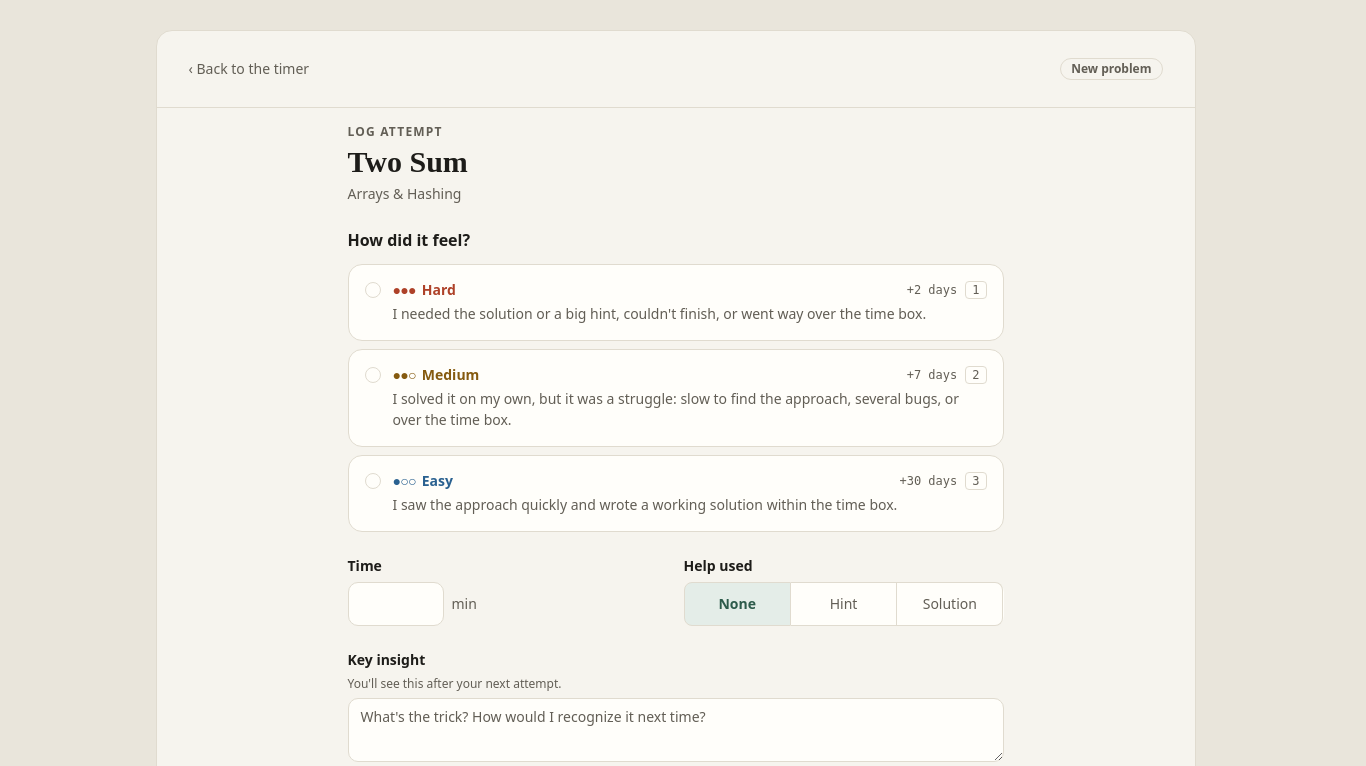
LogPage saving › shows the next re-solve date from the new schedule
The width and height of the screenshot is (1366, 766).
Click the radio button named "Hard" next to "Hard".
click(372, 290)  # box [364, 282, 380, 298]
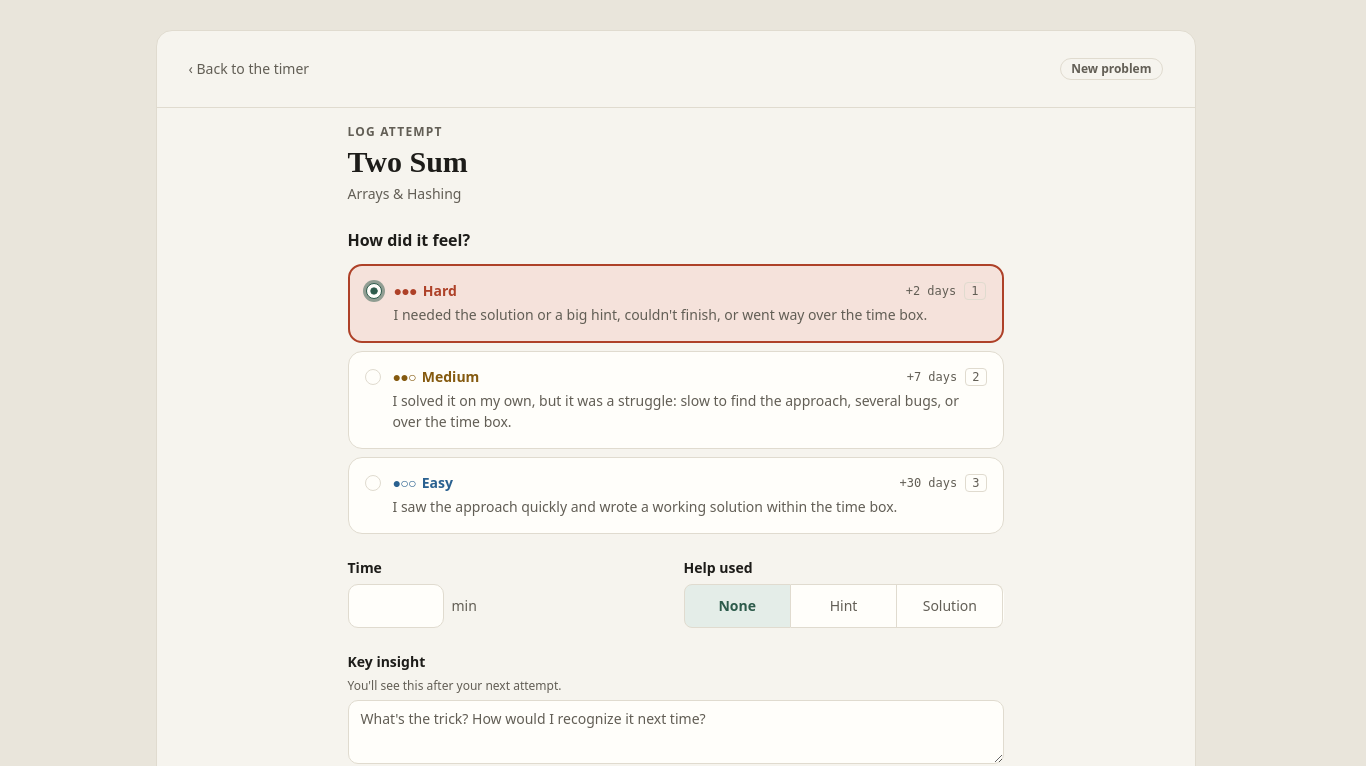
Type "30" into the number field labelled "Time".
click(396, 606); type("30")  # box [348, 584, 444, 628]
(page scrolled)
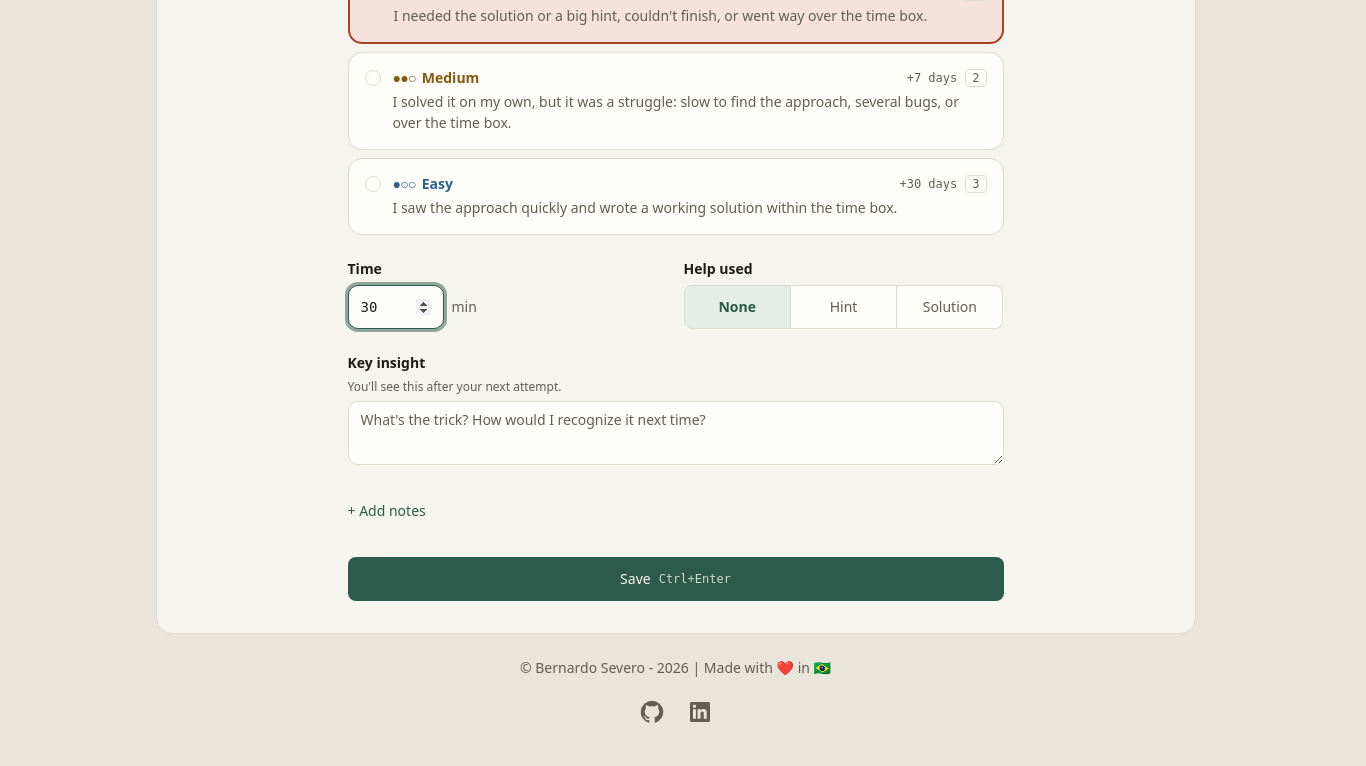
Click the button "Save Ctrl+Enter".
click(676, 579)  # box [348, 557, 1004, 601]
(page scrolled)
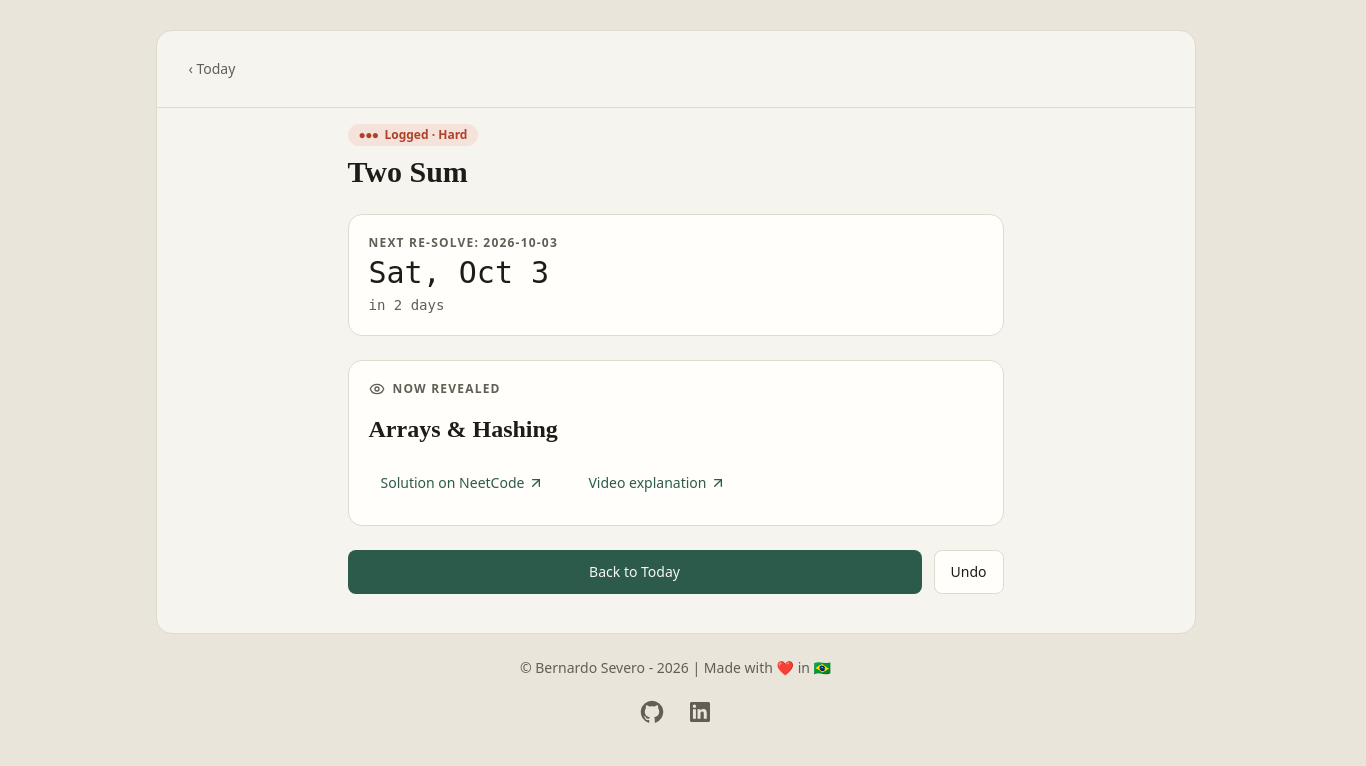
Check: the text "Next re-solve: 2026-10-03" is shown, box [368, 234, 558, 251]
